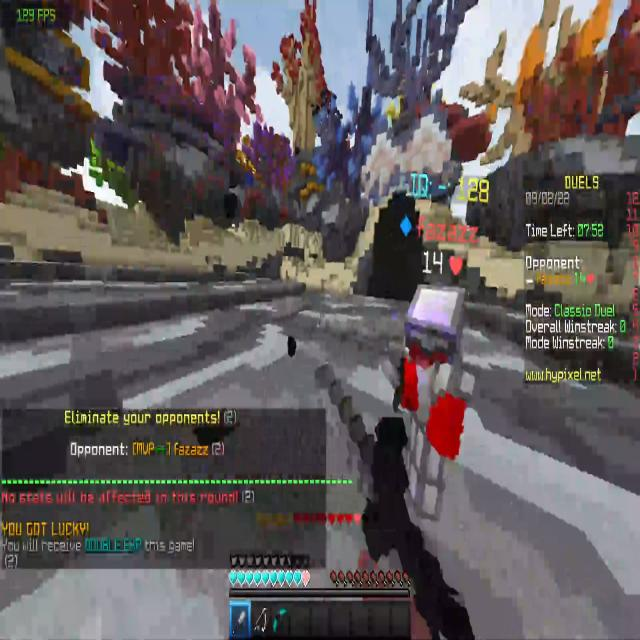Player: (382, 252, 473, 527)
